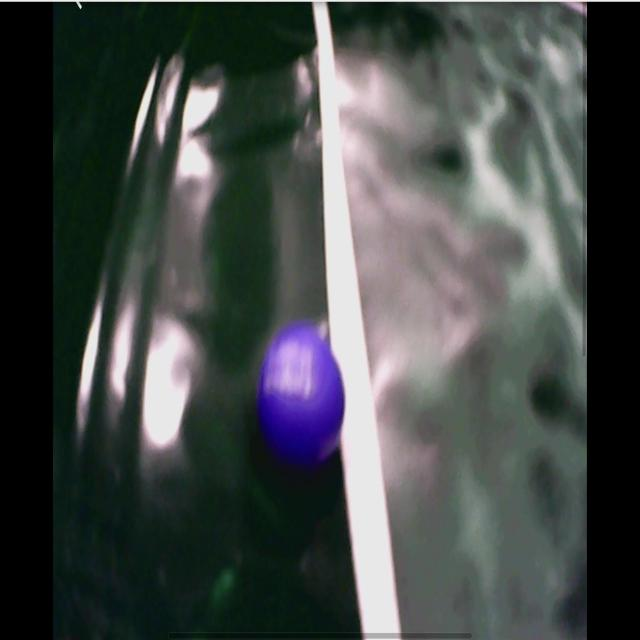ball: (260, 328, 347, 459)
